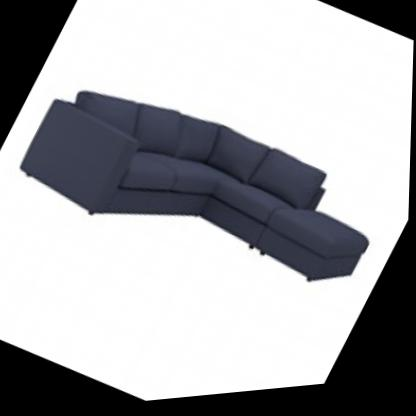Sofa: (0, 10, 415, 385)
